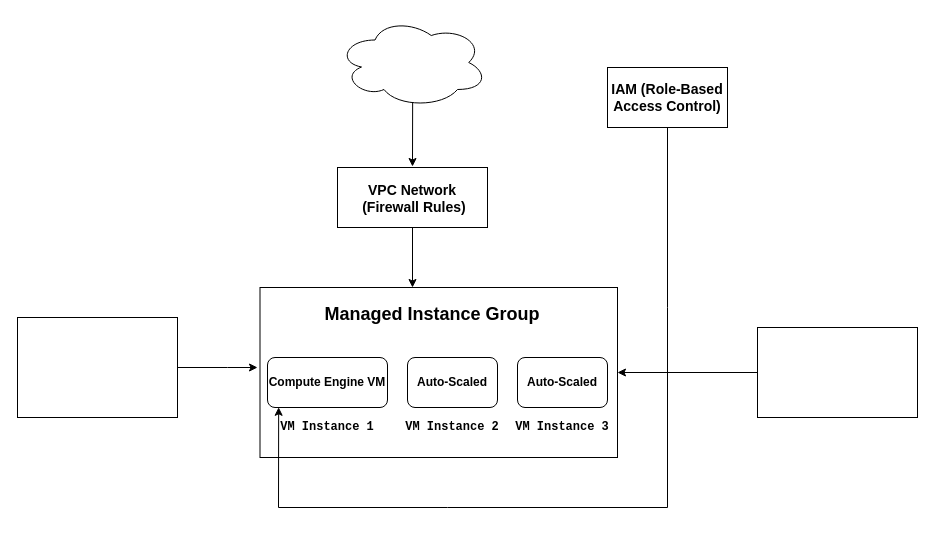
Some shapes in this 935 by 533 pixel diagram are drawn without their labels. The centre of each missing label's shape, as x and y in pixels:
"Autoscaler (CPU Utilization > 60%)" belongs at point (837, 372).
"Instance Template (VM Blueprint)" belongs at point (97, 367).
"Internet User" belongs at point (412, 62).
